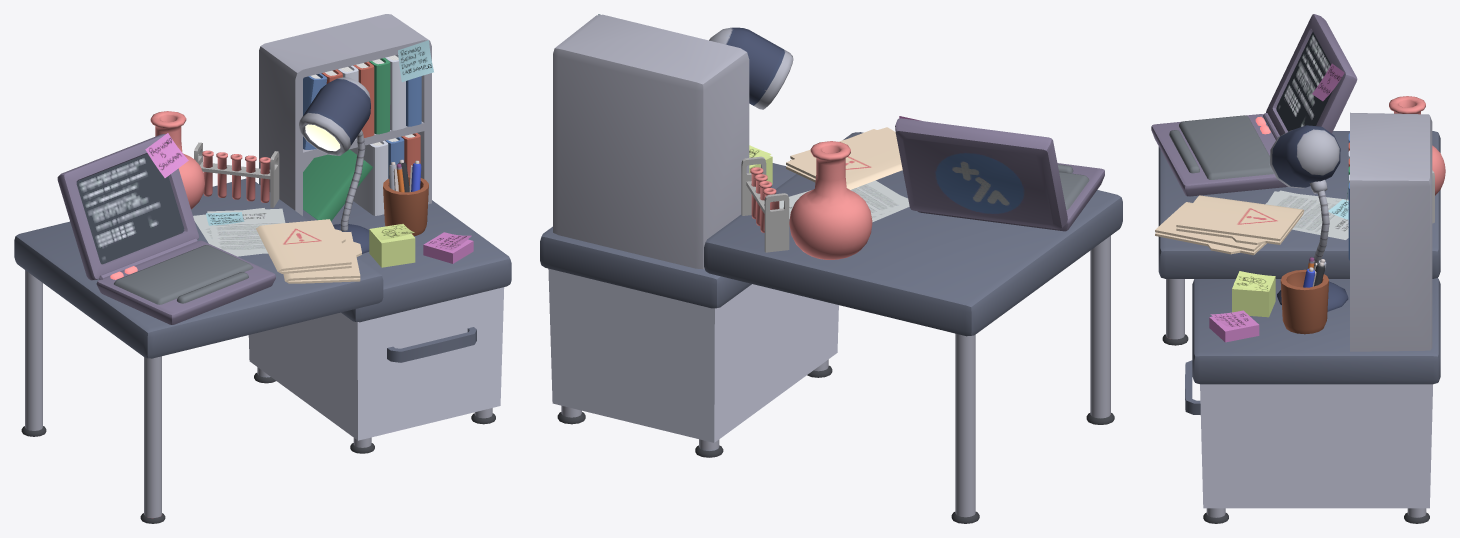
File: ResearchStation.fbx
The picture shows the model from 3 angles, left to right: view 1: azimuth 30°, elevation 25°; view 2: azimuth 150°, elevation 25°; view 3: azimuth 270°, elevation 25°; orthographic projection. The views are drawn at different scales.
Visible parts, largest first — view 1: SM_ResearchStation; view 2: SM_ResearchStation; view 3: SM_ResearchStation.
Boxes of the visible parts, x1,y1,x2,y2 form: SM_ResearchStation: [14, 14, 511, 523]; SM_ResearchStation: [540, 14, 1122, 523]; SM_ResearchStation: [1151, 14, 1445, 523].
Size of the model in its own units: 202 by 162 by 125.
